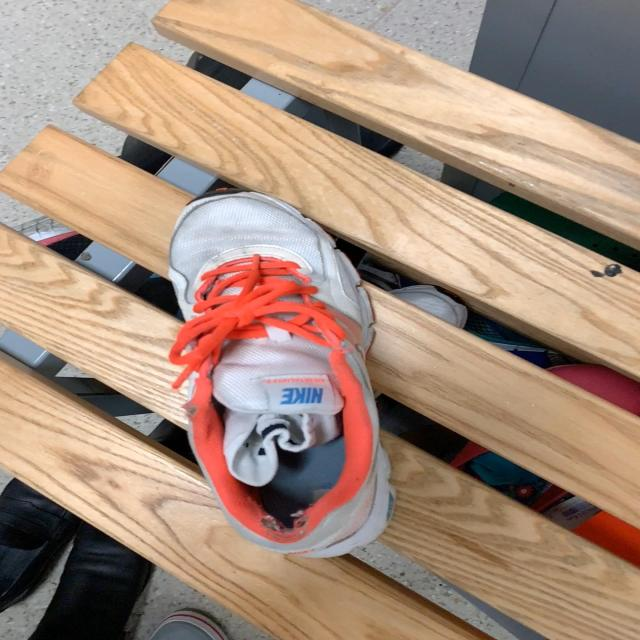shoe: (167, 190, 393, 560)
